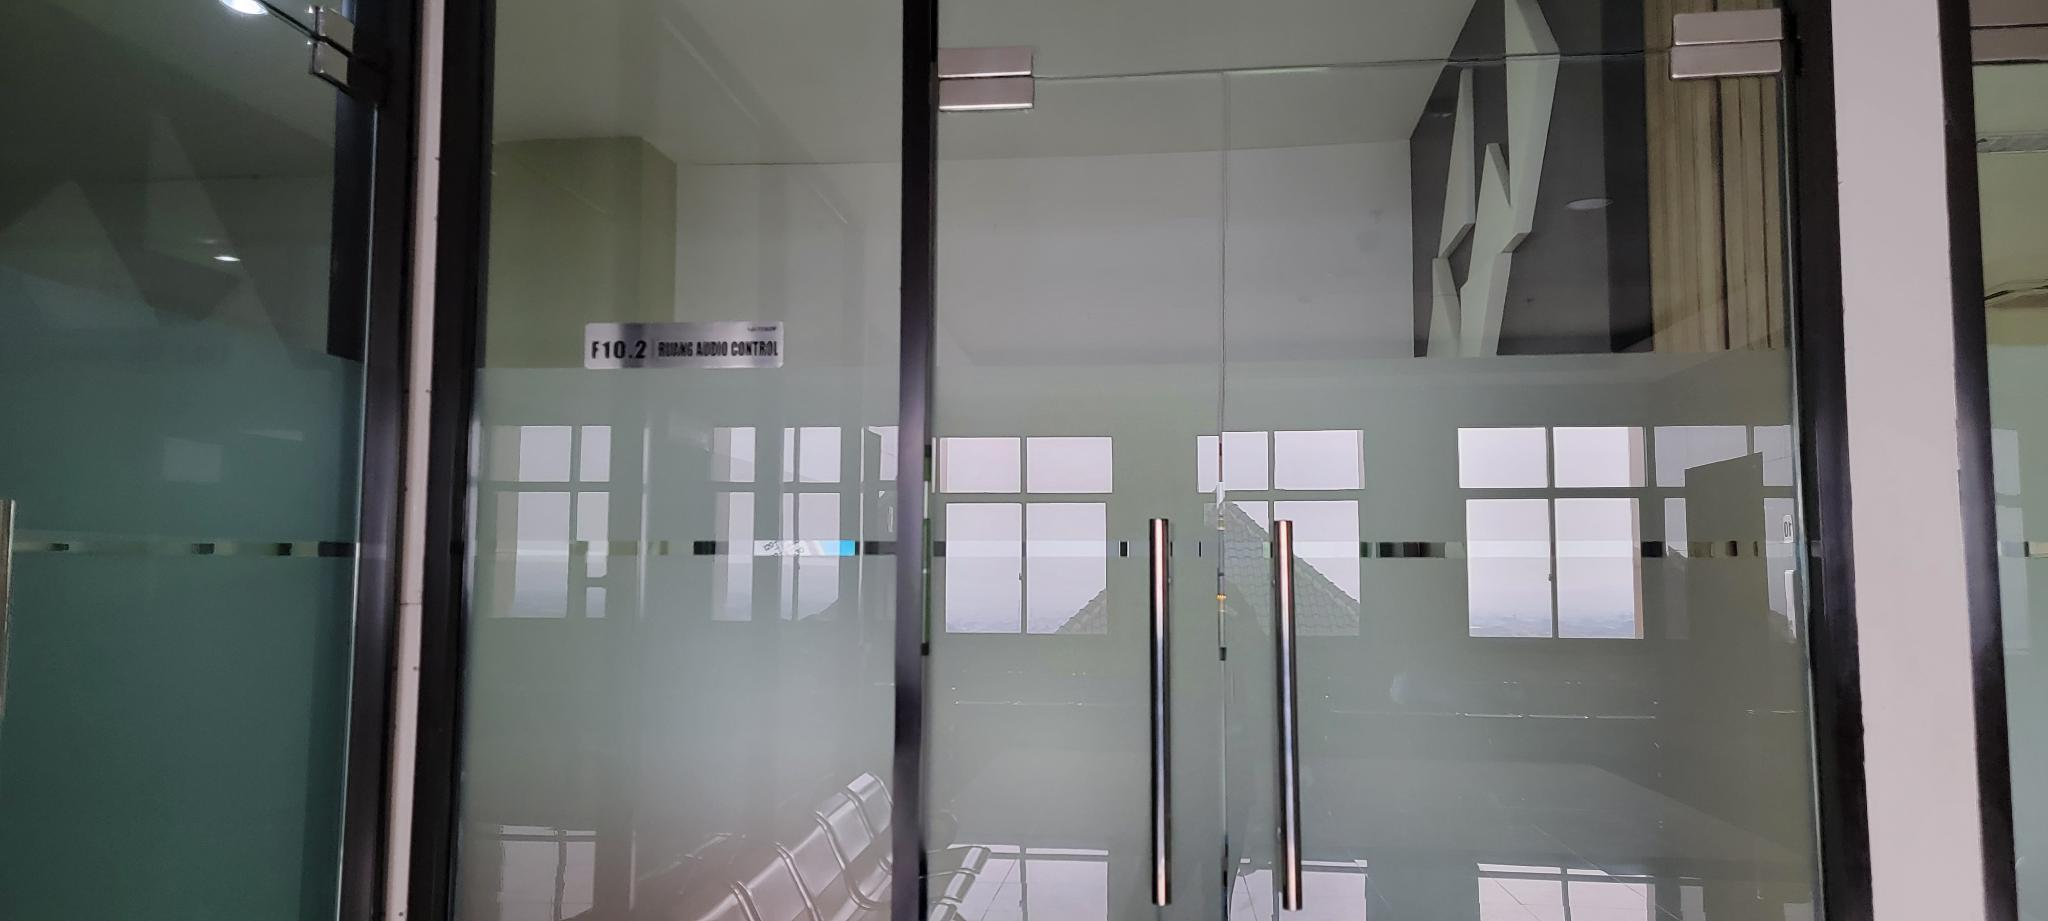plate: (583, 320, 785, 371)
